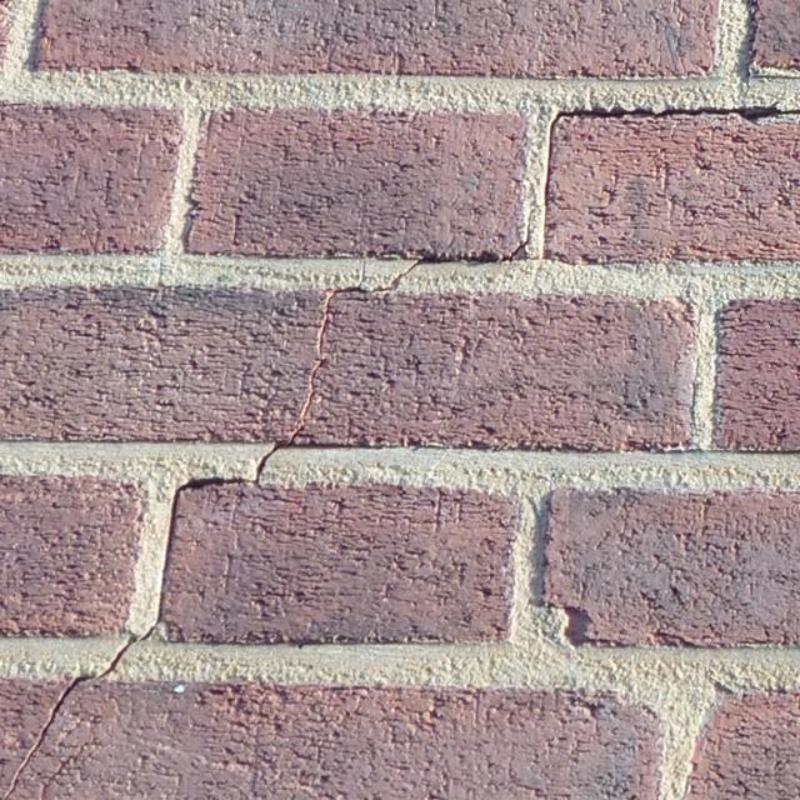pothole: (139, 226, 530, 641), (4, 631, 139, 798), (549, 104, 798, 131)
